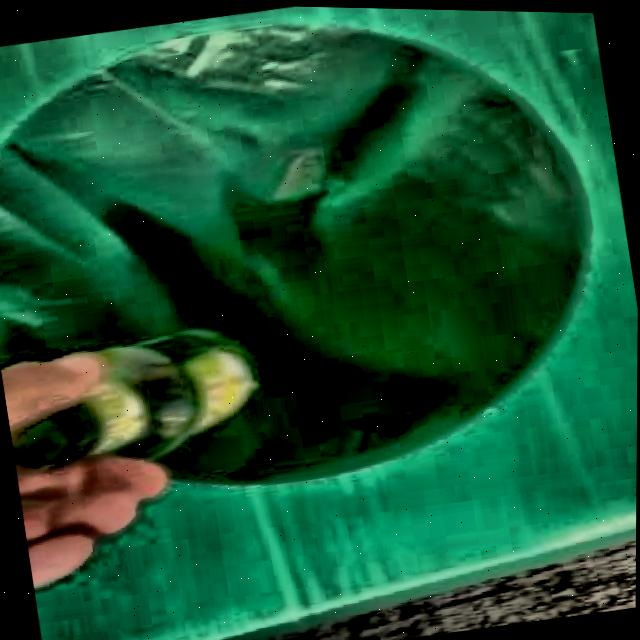glass: (12, 329, 257, 469)
